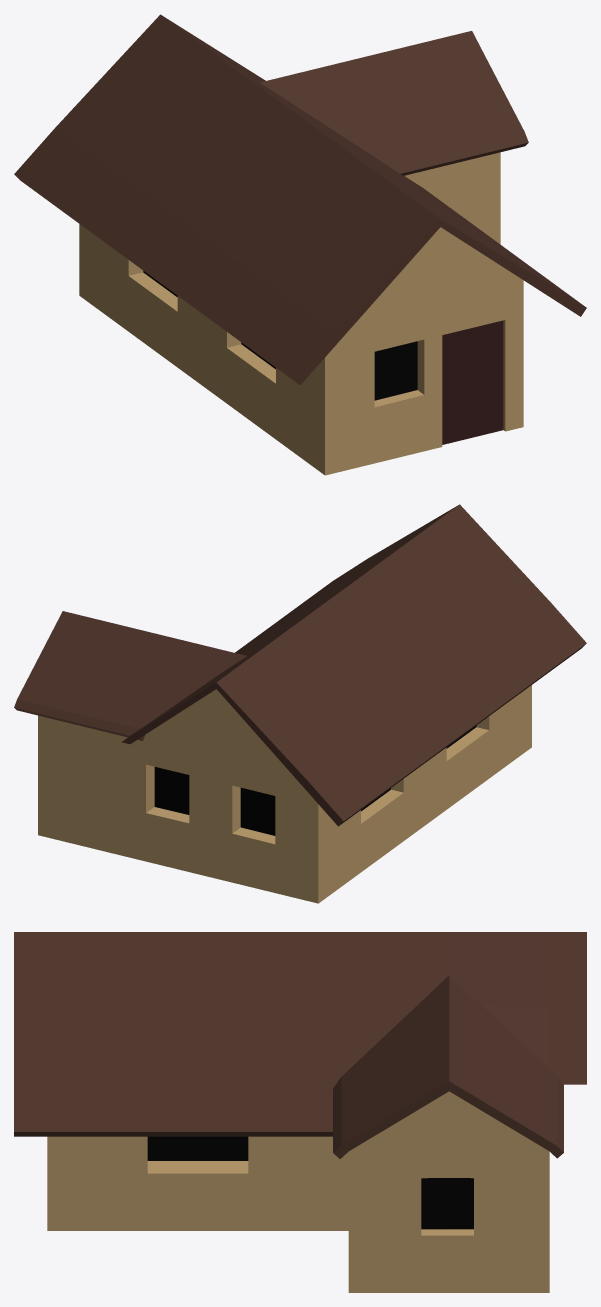
File: House2.glb
The picture shows the model from 3 angles, top to bottom: view 1: azimuth 30°, elevation 25°; view 2: azimuth 150°, elevation 25°; view 3: azimuth 270°, elevation 25°; orthographic projection. The views are drawn at different scales.
Visible parts, largest first — view 1: House2; view 2: House2; view 3: House2.
Boxes of the visible parts, x1,y1,x2,y2 form: House2: [14, 14, 586, 475]; House2: [14, 504, 586, 903]; House2: [14, 932, 586, 1292].
Size of the model in its own units: 5.51 by 3.29 by 6.84.
